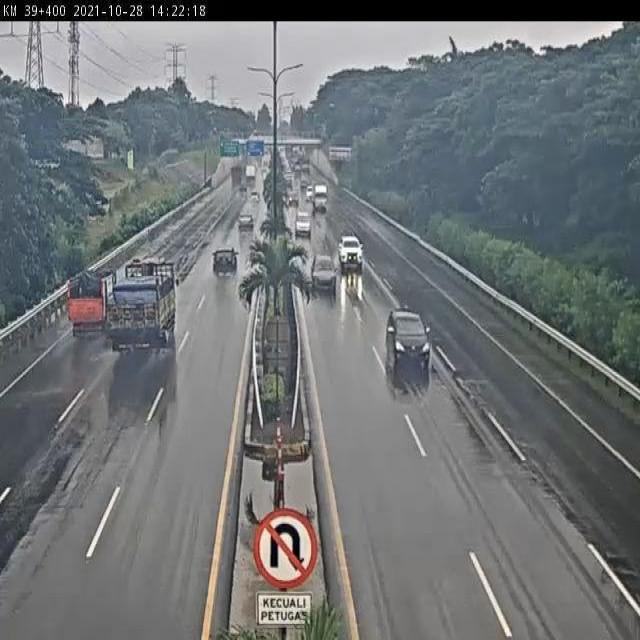car: (384, 310, 432, 370), (308, 253, 338, 295), (210, 243, 241, 279), (338, 233, 365, 271), (292, 208, 312, 239), (235, 209, 256, 235)
truck: (106, 259, 179, 353), (67, 271, 117, 337)
